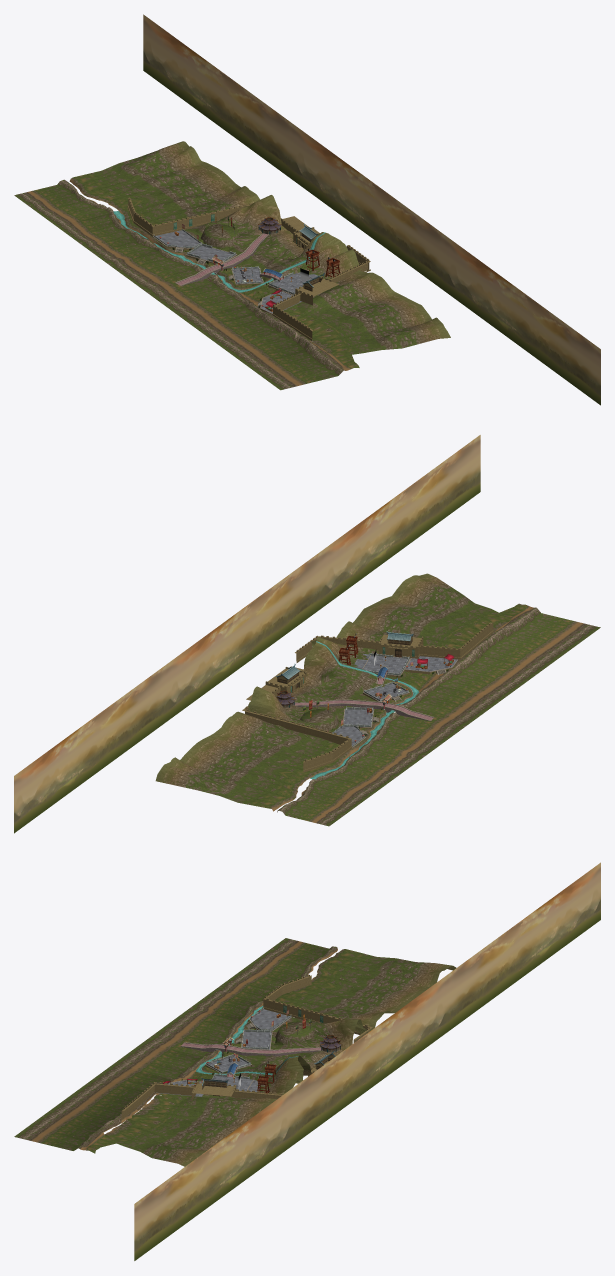
File: 3kui_map.FBX
3 views of the same model, one above another, from view 1: azimuth 30°, elevation 25°; view 2: azimuth 150°, elevation 25°; view 3: azimuth 330°, elevation 25° (orthographic).
Parts seen in each view (by area): view 1: 3kui_map_ground04, 3kui_map_ground015, 3kui_map_sky1, 3kui_map_sky2, 3kui_map_sky4, 3kui_map_cloud4, 3kui_map_cloud1, 3kui_map_cloud2, 3kui_map_ground09, 3kui_map_pt58, 3kui_map_ground03, 3kui_map_ground06 (+13 smaller); view 2: 3kui_map_ground015, 3kui_map_ground04, 3kui_map_sky4, 3kui_map_sky1, 3kui_map_sky2, 3kui_map_cloud2, 3kui_map_cloud4, 3kui_map_cloud1, 3kui_map_ground06, 3kui_map_pt58, 3kui_map_ground03, 3kui_map_ground02 (+10 smaller); view 3: 3kui_map_ground04, 3kui_map_ground015, 3kui_map_sky4, 3kui_map_sky1, 3kui_map_sky2, 3kui_map_cloud2, 3kui_map_cloud4, 3kui_map_cloud1, 3kui_map_ground03, 3kui_map_ground09, 3kui_map_pt58, 3kui_map_ground02 (+9 smaller).
Boxes of the visible parts, <box> form: 3kui_map_ground04: <box>190,270,450,390</box>; 3kui_map_ground015: <box>14,141,260,253</box>; 3kui_map_sky1: <box>143,36,295,181</box>; 3kui_map_sky2: <box>448,259,600,405</box>; 3kui_map_sky4: <box>296,148,448,293</box>; 3kui_map_cloud4: <box>143,14,295,147</box>; 3kui_map_cloud1: <box>448,238,600,370</box>; 3kui_map_cloud2: <box>296,126,448,258</box>; 3kui_map_ground09: <box>185,195,287,250</box>; 3kui_map_pt58: <box>257,249,340,340</box>; 3kui_map_ground03: <box>166,279,277,323</box>; 3kui_map_ground06: <box>212,231,323,281</box>; 3kui_map_ground015: <box>155,711,410,826</box>; 3kui_map_ground04: <box>336,573,600,695</box>; 3kui_map_sky4: <box>169,570,325,719</box>; 3kui_map_sky1: <box>14,684,169,833</box>; 3kui_map_sky2: <box>325,457,480,605</box>; 3kui_map_cloud2: <box>169,548,325,683</box>; 3kui_map_cloud4: <box>14,662,169,797</box>; 3kui_map_cloud1: <box>325,435,480,569</box>; 3kui_map_ground06: <box>291,642,388,726</box>; 3kui_map_pt58: <box>338,622,493,684</box>; 3kui_map_ground03: <box>386,670,507,712</box>; 3kui_map_ground02: <box>373,692,483,733</box>; 3kui_map_ground04: <box>14,1069,276,1166</box>; 3kui_map_ground015: <box>204,938,456,1030</box>; 3kui_map_sky4: <box>289,999,445,1147</box>; 3kui_map_sky1: <box>445,885,600,1033</box>; 3kui_map_sky2: <box>134,1112,289,1260</box>; 3kui_map_cloud2: <box>289,976,445,1111</box>; 3kui_map_cloud4: <box>445,862,600,997</box>; 3kui_map_cloud1: <box>134,1090,289,1225</box>; 3kui_map_ground03: <box>107,1051,235,1082</box>; 3kui_map_ground09: <box>274,1018,367,1054</box>; 3kui_map_pt58: <box>121,1063,276,1120</box>; 3kui_map_ground02: <box>131,1031,242,1067</box>.
Bounding box in the file's own units: 18130 × 5496 × 65579.
